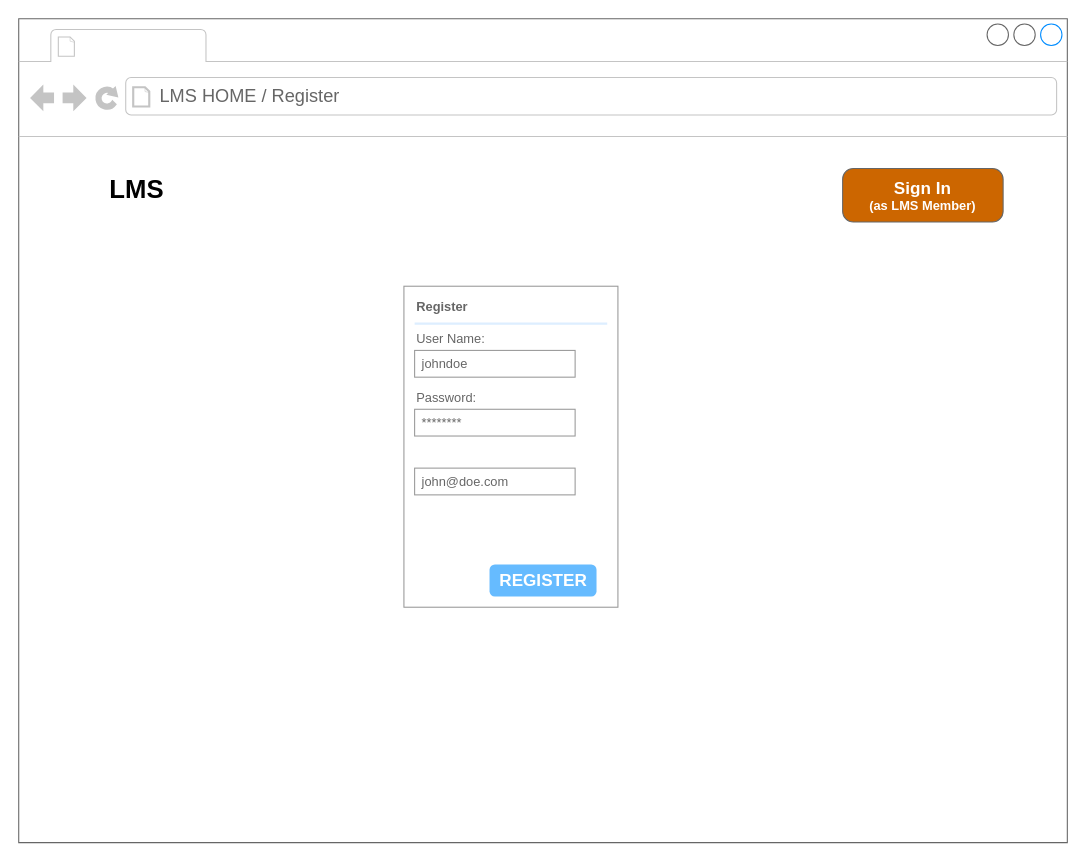
Image size: 1086x861. Some labels were removed from this diagram. Here are the shapes that lost their labels. From the top down, the centre of each, then its label:
At pixel 141 44: "Page 1".
At pixel 468 457: "Email".
